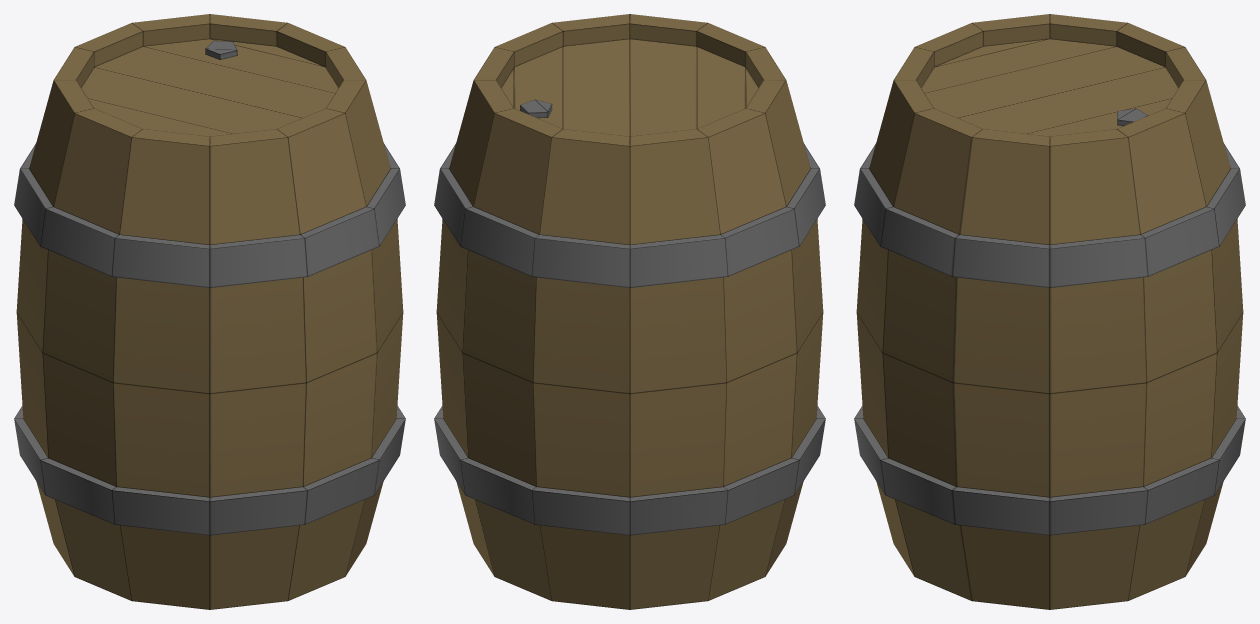
Rendered from Barrel.fbx.
The picture shows the model from 3 angles, left to right: view 1: azimuth 30°, elevation 25°; view 2: azimuth 150°, elevation 25°; view 3: azimuth 270°, elevation 25°; orthographic projection.
Visible parts, largest first — view 1: Barrel; view 2: Barrel; view 3: Barrel.
Part boxes in pixels (left/top/right/bottom): Barrel: left=14, top=14, right=405, bottom=609; Barrel: left=434, top=14, right=825, bottom=609; Barrel: left=854, top=14, right=1245, bottom=609.
Bounding box in the file's own units: 68.9 × 90 × 68.9.
